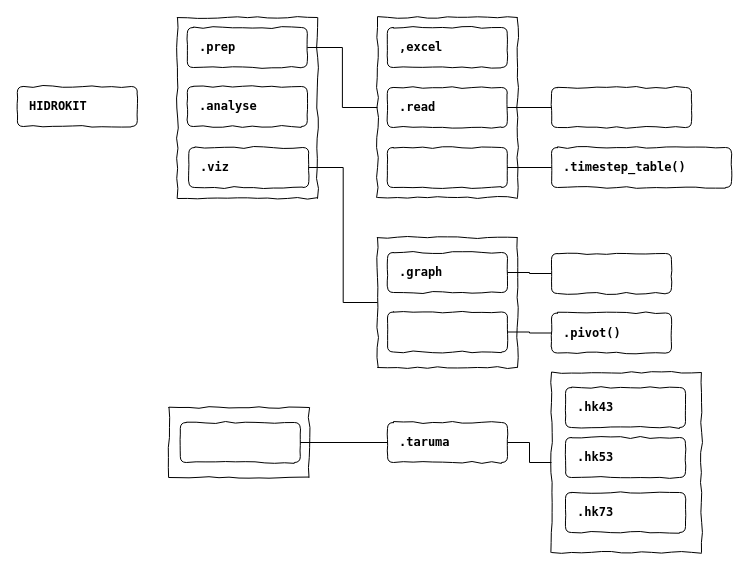
Image size: 750x570. Some labels were removed from this diagram. The centre of each missing label's shape, as x and y in pixels:
".contrib" goes at pixel 239 442.
".missing_row()" goes at pixel 621 107.
".subplots()" goes at pixel 611 273.
".table" goes at pixel 447 331.
".timeseries" goes at pixel 446 167.
